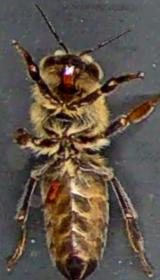varroa_mite: (34, 172, 69, 209)
